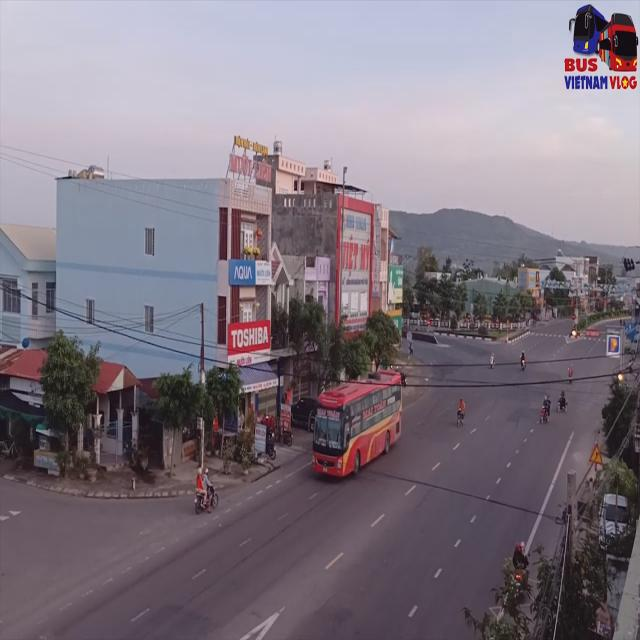bus: (311, 376, 403, 484)
motorbike: (194, 468, 219, 518), (538, 393, 550, 429), (457, 395, 467, 431), (558, 384, 567, 414), (520, 346, 529, 372)
